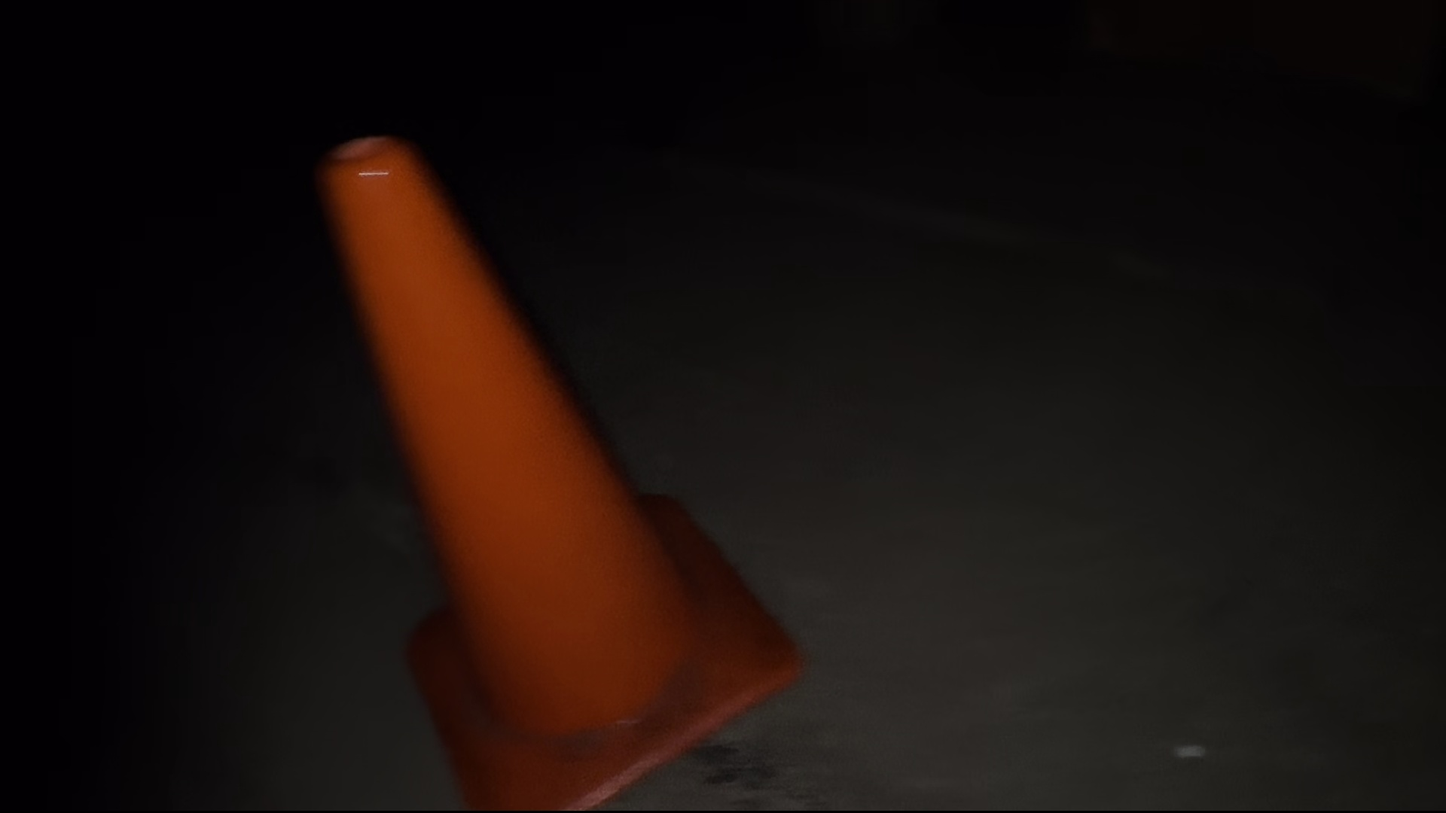traffic_cone: (316, 132, 804, 810)
